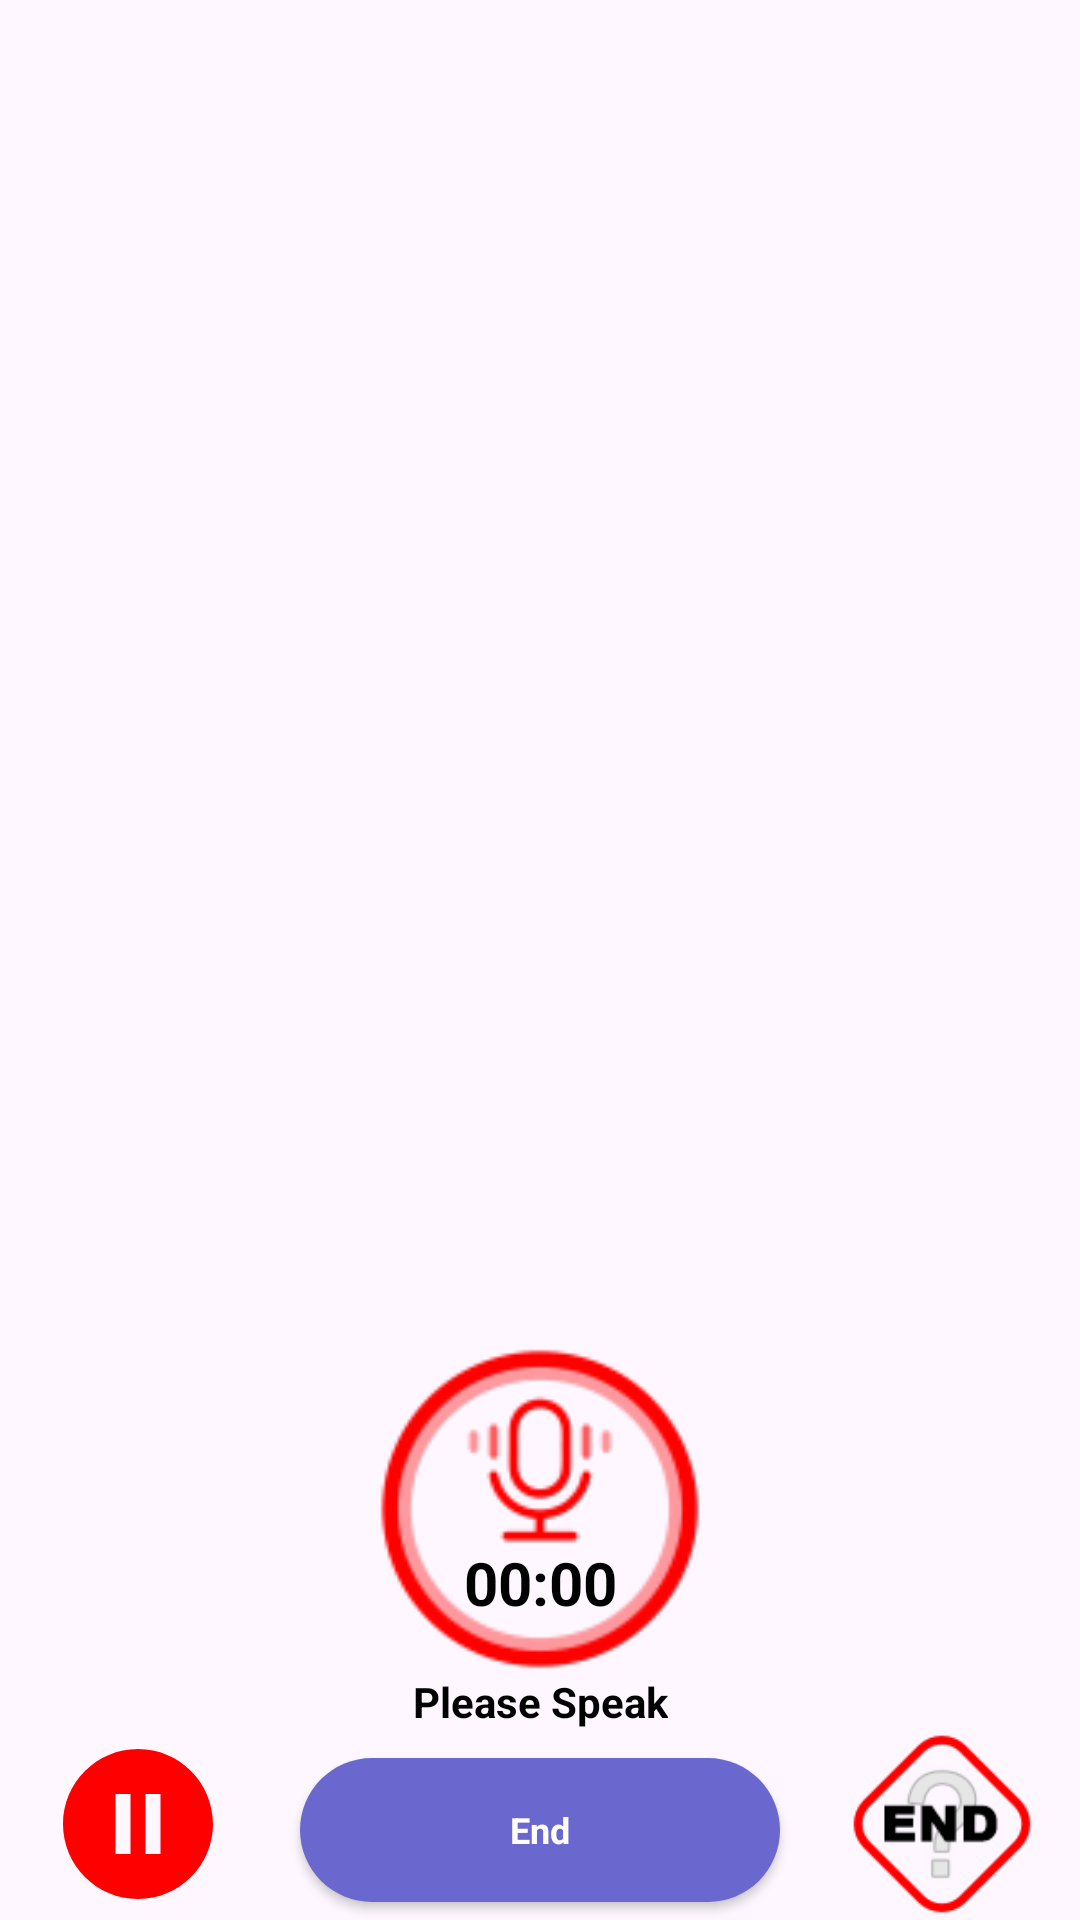

Where icons sit on this 1080px×1920px app screen, as BBox(x1, y1, x2, y2):
voice: BBox(380, 1349, 700, 1669)
